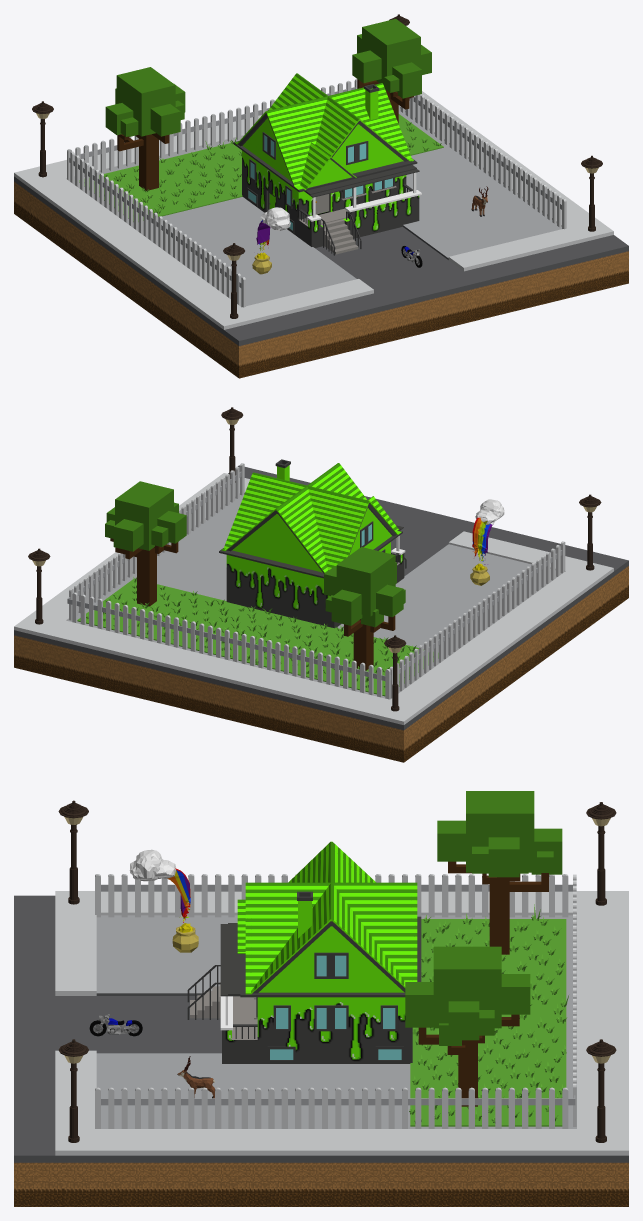
3 renders of one model, top to bottom at view 1: azimuth 30°, elevation 25°; view 2: azimuth 150°, elevation 25°; view 3: azimuth 270°, elevation 25°, orthographic. The views are drawn at different scales.
Visible parts, largest first — view 1: Cube.004, Cube.754, OBJRANDOM_RAINBOW; view 2: Cube.004, Cube.754, OBJRANDOM_RAINBOW; view 3: Cube.004, Cube.754, OBJRANDOM_RAINBOW, VEHICLES_CHOPPER.
Part boxes in pixels (bbox=[...]): Cube.004: bbox=[14, 14, 628, 378]; Cube.754: bbox=[233, 73, 421, 255]; OBJRANDOM_RAINBOW: bbox=[252, 207, 290, 274]; Cube.004: bbox=[14, 407, 628, 762]; Cube.754: bbox=[219, 459, 406, 628]; OBJRANDOM_RAINBOW: bbox=[470, 499, 504, 585]; Cube.004: bbox=[14, 791, 628, 1206]; Cube.754: bbox=[187, 841, 421, 1063]; OBJRANDOM_RAINBOW: bbox=[129, 849, 198, 952]; VEHICLES_CHOPPER: bbox=[89, 1014, 142, 1036].
Bounding box in the file's own units: 4000 × 1607 × 4000.
35 materials, 4 textured.
